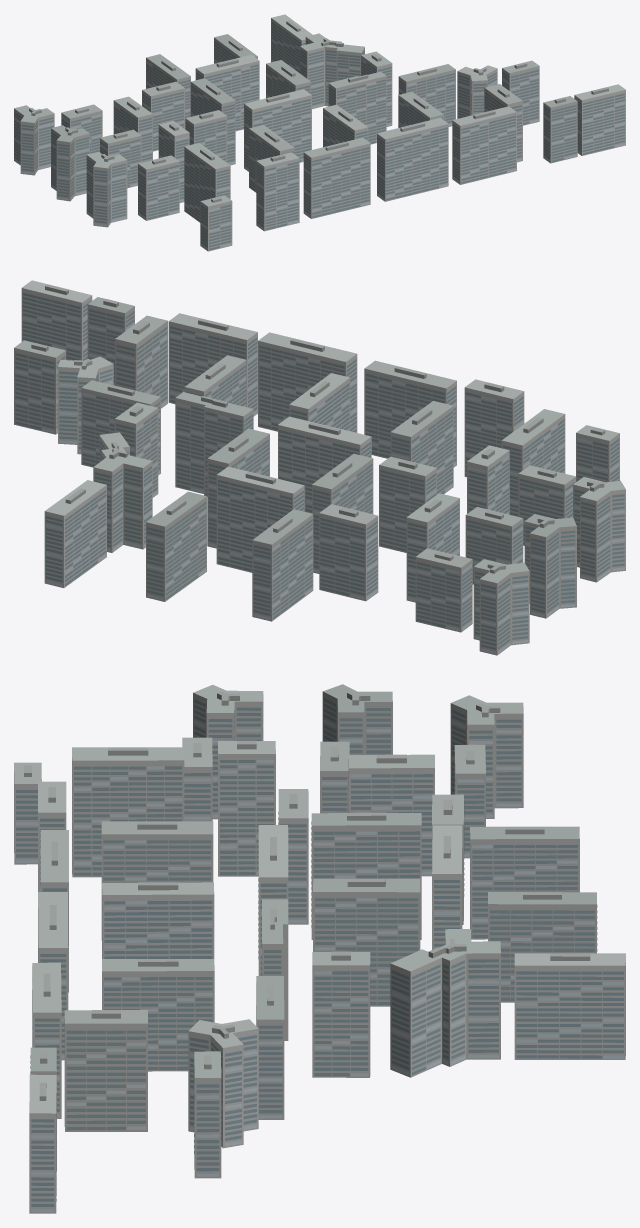
Rendered from apt-a15701003.glb.
3 views of the same model, one above another, from view 1: azimuth 30°, elevation 25°; view 2: azimuth 150°, elevation 25°; view 3: azimuth 270°, elevation 25° (orthographic). The views are drawn at different scales.
Parts seen in each view (by area): view 1: apt-a15701003; view 2: apt-a15701003; view 3: apt-a15701003.
Boxes of the visible parts, <box> form: apt-a15701003: <box>14,14,625,251</box>; apt-a15701003: <box>14,280,625,655</box>; apt-a15701003: <box>14,684,625,1213</box>.
Bounding box in the file's own units: 442 × 62 × 269.
